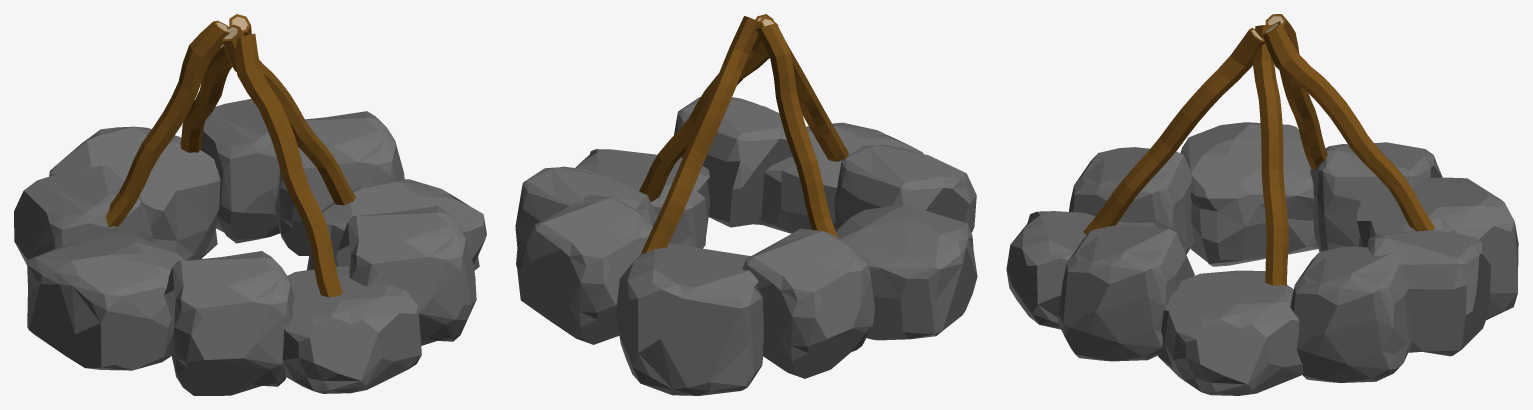
The model's file is Fogata.glb.
3 renders of one model, left to right at view 1: azimuth 30°, elevation 25°; view 2: azimuth 150°, elevation 25°; view 3: azimuth 270°, elevation 25°, orthographic. The views are drawn at different scales.
Visible parts, largest first — view 1: Rcca1.004, Roca2.005, Rcca1.001, Roca2.001, Rcca1.003, Roca2.003, Roca2.004, Roca2.002, Palo.004, Palo.002, Rcca1.002, Palo.001 (+1 smaller); view 2: Rcca1.003, Roca2.004, Rcca1.004, Roca2.003, Roca2.005, Roca2.001, Palo.003, Rcca1.001, Roca2.002, Palo.002, Rcca1.002, Palo.001 (+1 smaller); view 3: Rcca1.002, Roca2.001, Roca2.002, Rcca1.004, Roca2.003, Rcca1.003, Roca2.004, Roca2.005, Rcca1.001, Palo.003, Palo.004, Palo.001 (+1 smaller).
Part boxes in pixels (box(x1,y1,x2,y2)): Rcca1.004: box(27, 234, 186, 370); Roca2.005: box(164, 251, 294, 395); Rcca1.001: box(282, 266, 421, 393); Roca2.001: box(336, 206, 476, 345); Rcca1.003: box(49, 126, 220, 260); Roca2.003: box(201, 99, 280, 243); Roca2.004: box(14, 165, 152, 264); Roca2.002: box(275, 111, 404, 255); Palo.004: box(234, 33, 342, 297); Palo.002: box(105, 20, 229, 228); Rcca1.002: box(307, 179, 486, 270); Palo.001: box(222, 24, 355, 205); Rcca1.003: box(616, 243, 763, 395); Roca2.004: box(742, 228, 875, 378); Rcca1.004: box(836, 204, 977, 340); Roca2.003: box(517, 194, 653, 344); Roca2.005: box(834, 144, 976, 232); Roca2.001: box(674, 97, 811, 227); Palo.003: box(640, 16, 763, 254); Rcca1.001: box(757, 122, 923, 233); Roca2.002: box(515, 166, 657, 266); Palo.002: box(756, 23, 838, 237); Rcca1.002: box(575, 149, 709, 248); Palo.001: box(639, 17, 778, 201); Rcca1.002: box(1158, 270, 1303, 395); Roca2.001: box(1058, 224, 1194, 361); Roca2.002: box(1290, 246, 1412, 382); Rcca1.004: box(1180, 122, 1318, 266); Roca2.003: box(1364, 230, 1491, 356); Rcca1.003: box(1357, 177, 1518, 320); Roca2.004: box(1310, 142, 1442, 251); Roca2.005: box(1069, 147, 1194, 254); Rcca1.001: box(1006, 211, 1156, 329); Palo.003: box(1262, 21, 1435, 231); Palo.004: box(1083, 28, 1265, 234); Palo.001: box(1253, 25, 1288, 285).
Size of the model in its own units: 3.41 by 2.41 by 3.63.
